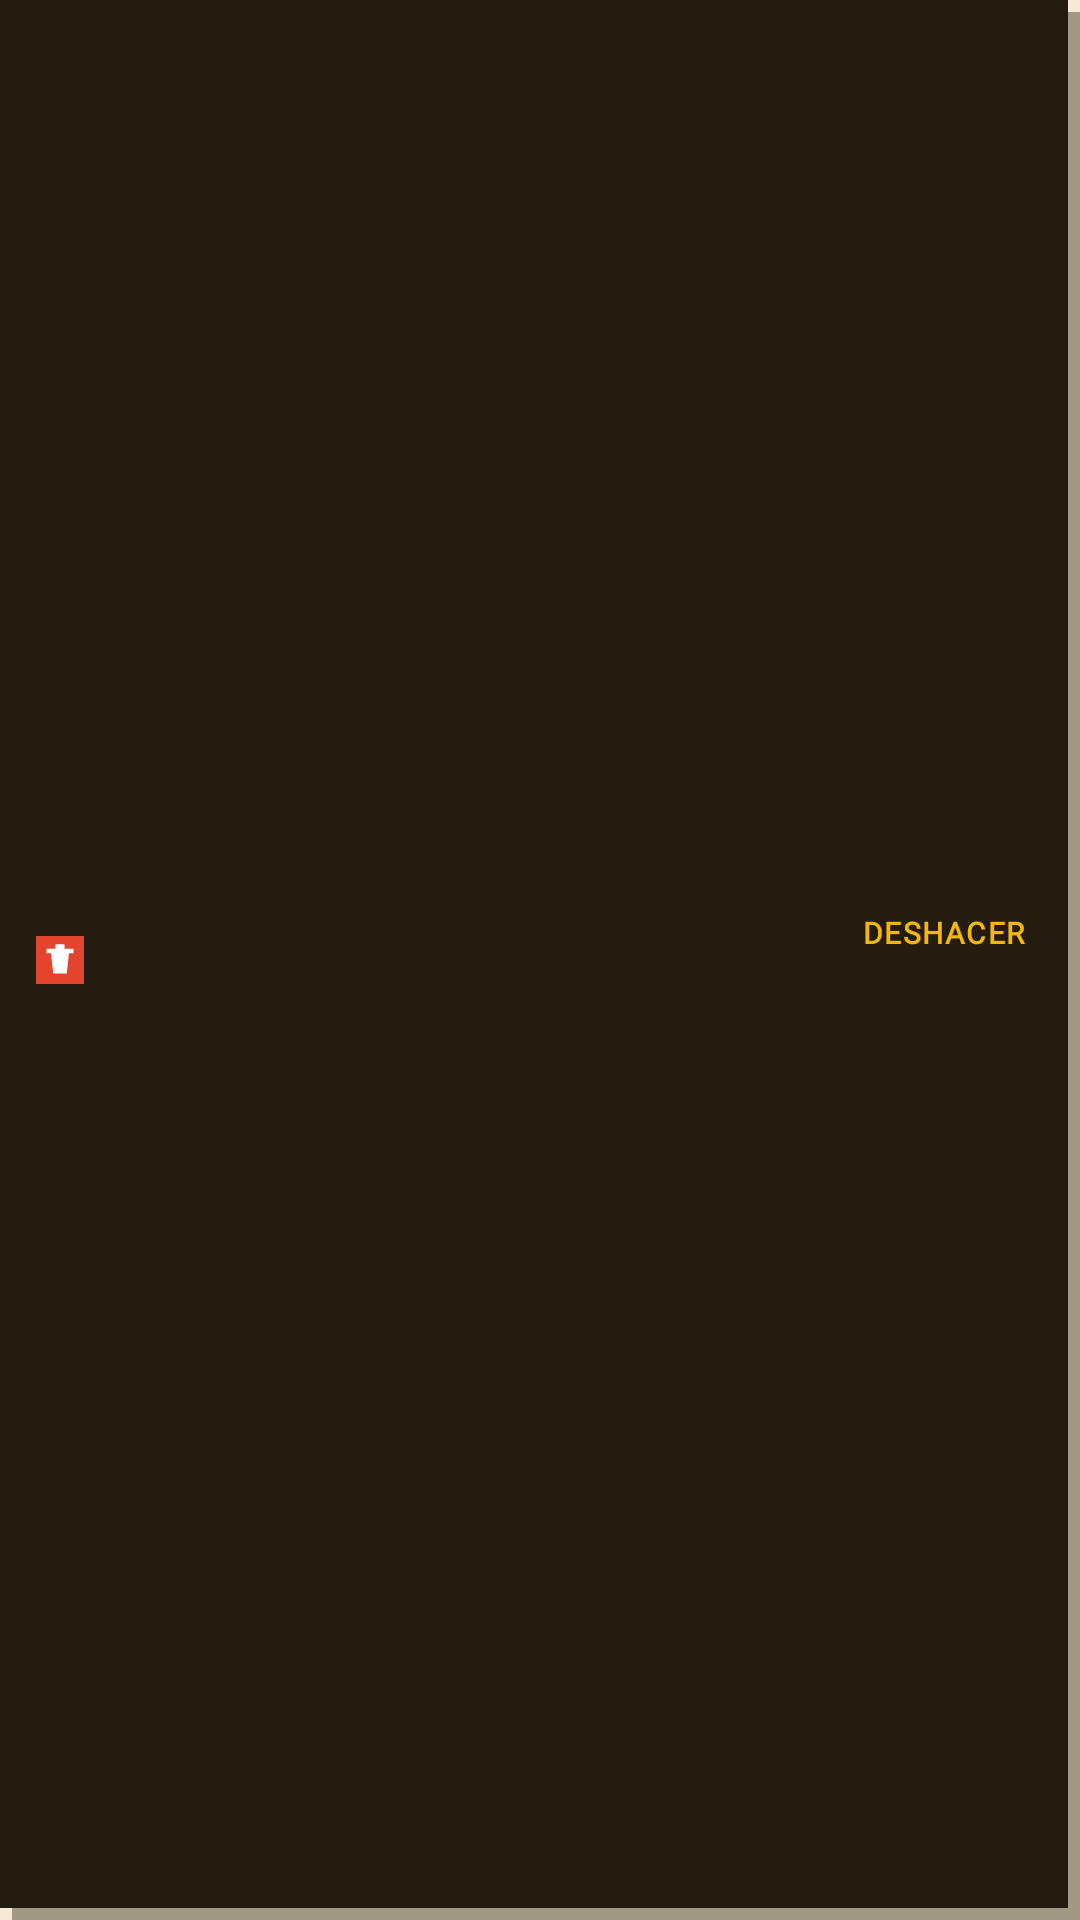

Icons on this 1080px×1920px Android screen, each with its box as (left=x1, top=y1, right=x2, bottom=y2):
papelera pixel: (left=36, top=936, right=84, bottom=984)
